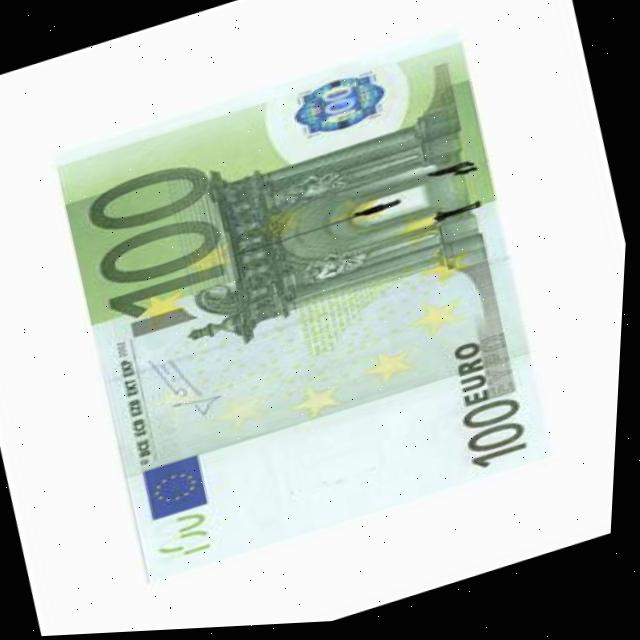banknote: (213, 106, 515, 331), (74, 151, 247, 330), (457, 395, 545, 480), (150, 503, 229, 576), (316, 76, 370, 133)
